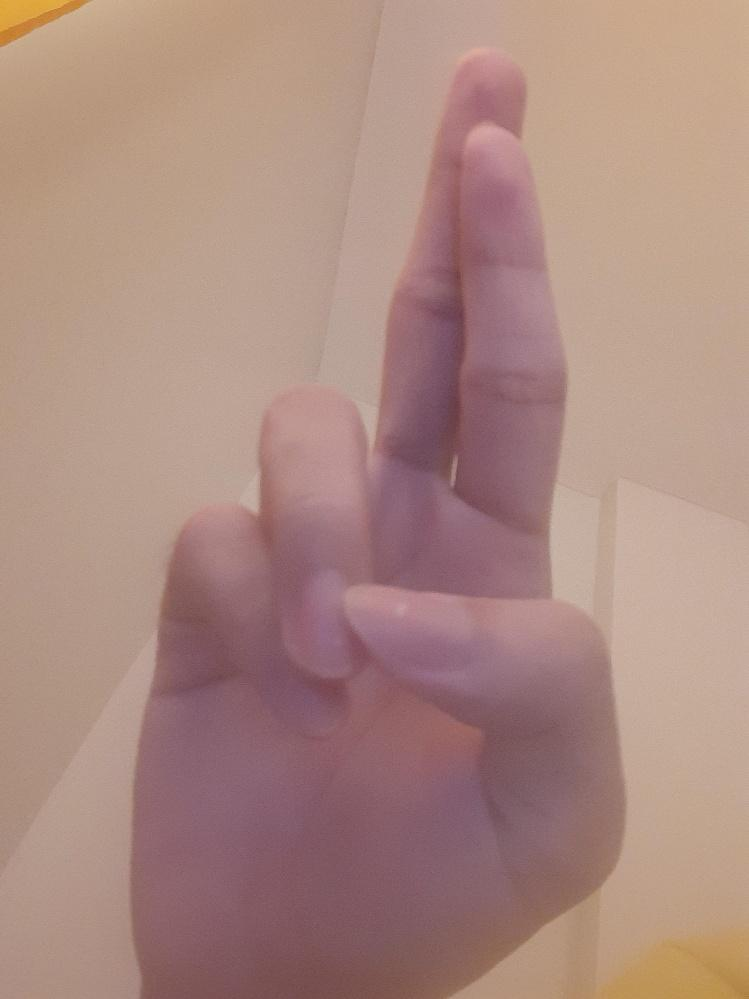r: (123, 52, 633, 985)
